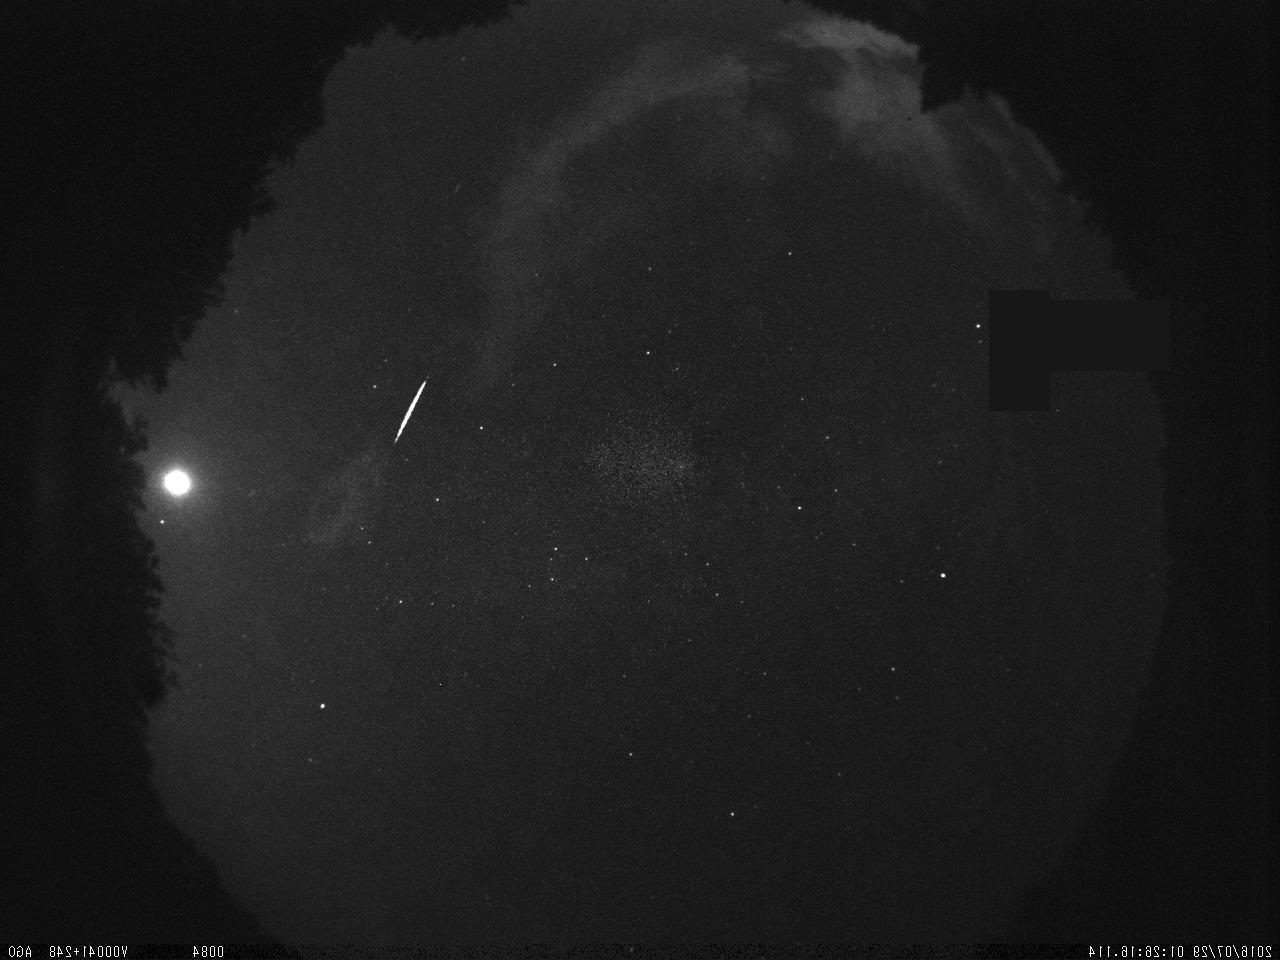meteor: (383, 369, 437, 453)
